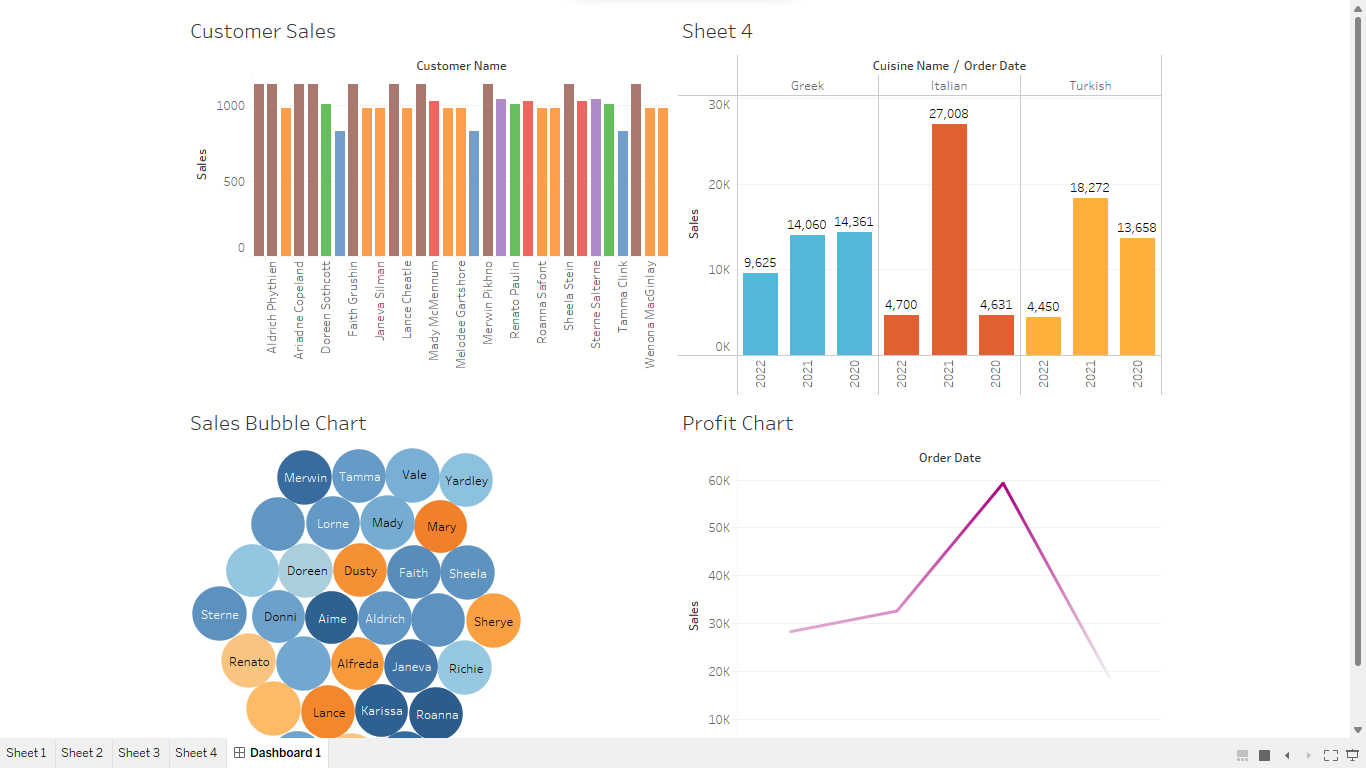

What the dashboard file says about the page in this screenshot:
{"tool":"tableau","page":{"name":"Dashboard 1","canvas":[1000,800],"ordinal":0},"visuals":[{"type":"worksheet","title":"Sheet 1","mark":"Automatic","rows":["Sales"],"cols":["Customer Name"],"box":[8,8,492,392]},{"type":"worksheet","title":"Sheet 4","mark":"Bar","rows":["Sales"],"cols":["Cuisine Name","Order Date"],"box":[500,8,492,392]},{"type":"worksheet","title":"Sheet 3","mark":"Circle","box":[8,400,492,392]},{"type":"worksheet","title":"Sheet 2","mark":"Automatic","rows":["Sales"],"cols":["Order Date"],"box":[500,400,492,392]}]}

Visuals, with their boxes on the page's 1000x800 design canvas (x1, y1, x2, y2). These are canvas units, not pixel positions in the 1366x768 screenshot, which may show the page scaled, cropped or inside an application window:
"Sheet 1" worksheet: {"x1": 8, "y1": 8, "x2": 500, "y2": 400}
"Sheet 4" worksheet (Bar marks): {"x1": 500, "y1": 8, "x2": 992, "y2": 400}
"Sheet 3" worksheet (Circle marks): {"x1": 8, "y1": 400, "x2": 500, "y2": 792}
"Sheet 2" worksheet: {"x1": 500, "y1": 400, "x2": 992, "y2": 792}
